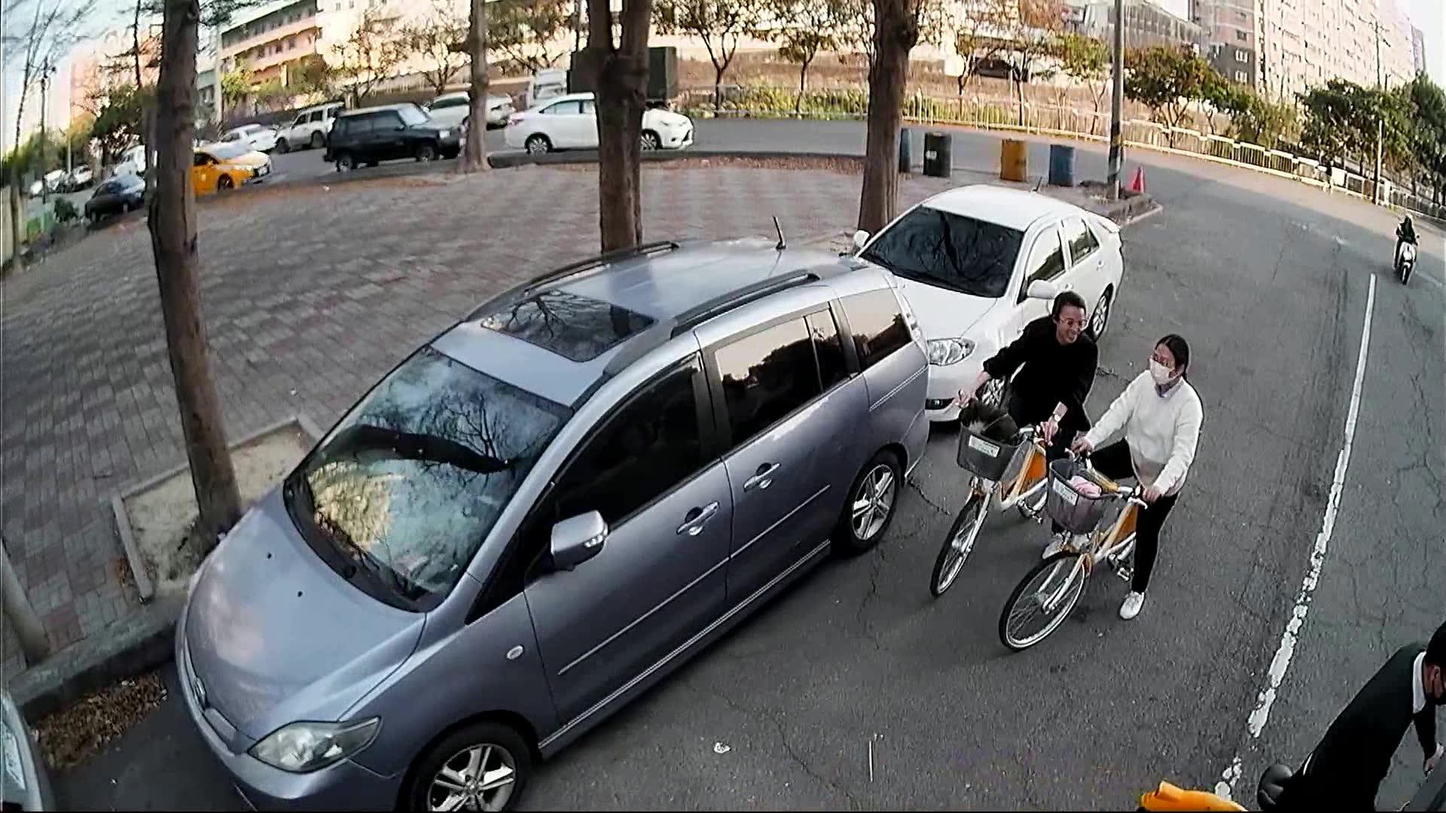person: (1037, 329, 1201, 622), (1269, 610, 1444, 812), (948, 284, 1102, 461), (1391, 209, 1422, 260)
